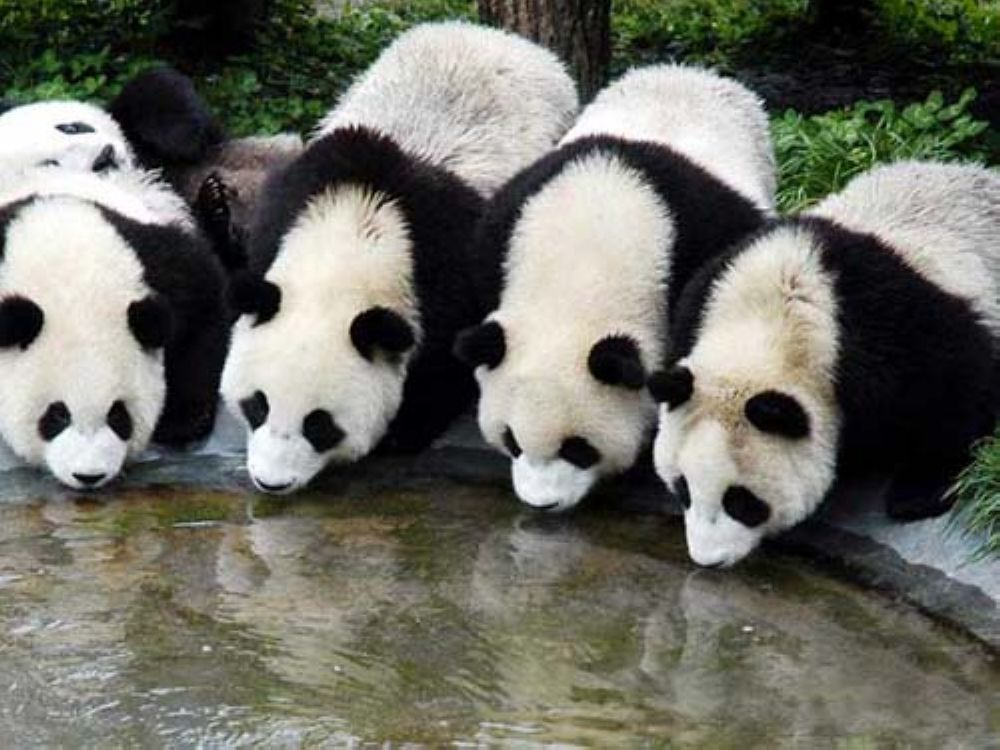panda: (217, 18, 580, 501), (650, 149, 1000, 582), (463, 60, 792, 520), (1, 73, 225, 496)
